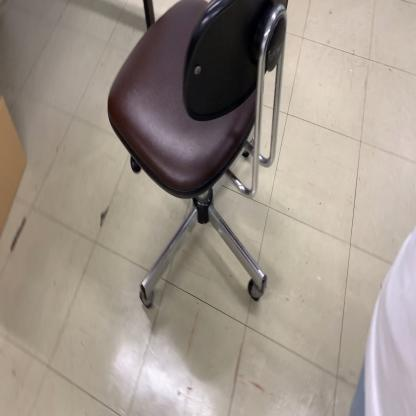chair: (108, 0, 290, 314)
